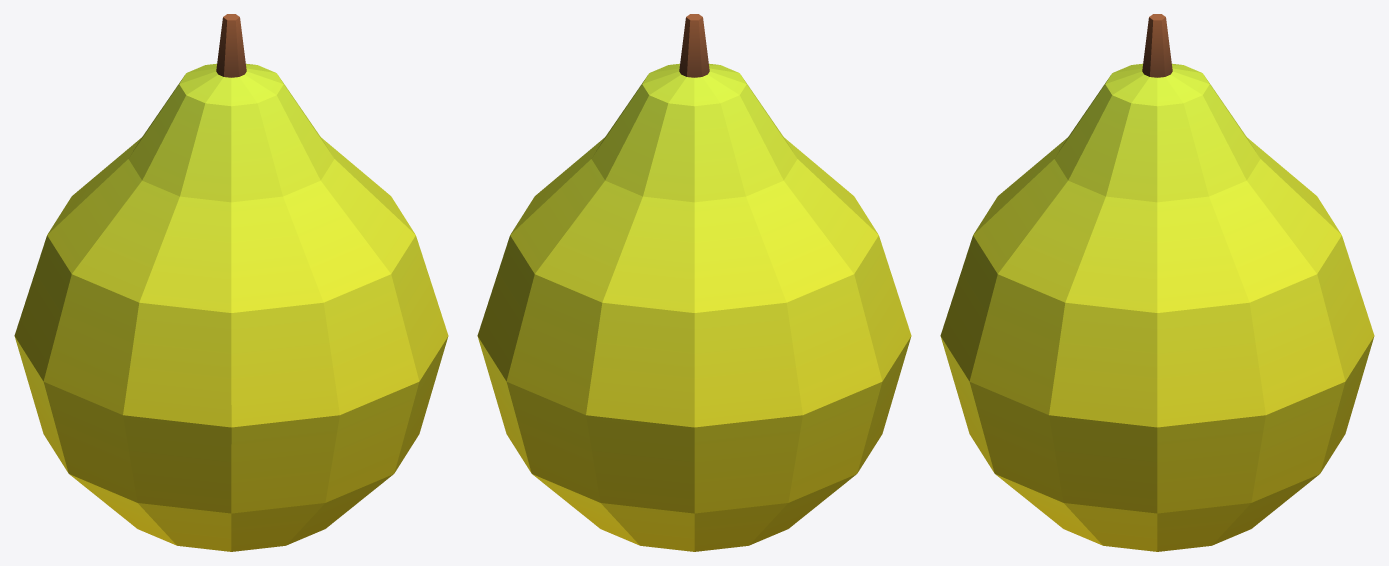
The model's file is Red Pomelo.fbx.
3 views of the same model, side by side, from view 1: azimuth 30°, elevation 25°; view 2: azimuth 150°, elevation 25°; view 3: azimuth 270°, elevation 25° (orthographic).
Parts seen in each view (by area): view 1: Red Pomelo; view 2: Red Pomelo; view 3: Red Pomelo.
Part boxes in pixels (left/top/right/bottom): Red Pomelo: left=14, top=14, right=448, bottom=551; Red Pomelo: left=477, top=14, right=911, bottom=551; Red Pomelo: left=940, top=14, right=1374, bottom=551.
Size of the model in its own units: 18.1 by 23.71 by 18.1.
